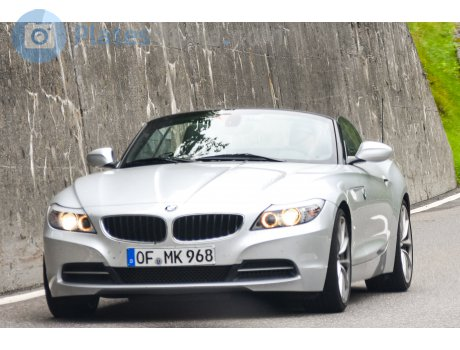License Plates: (136, 247, 215, 263)
